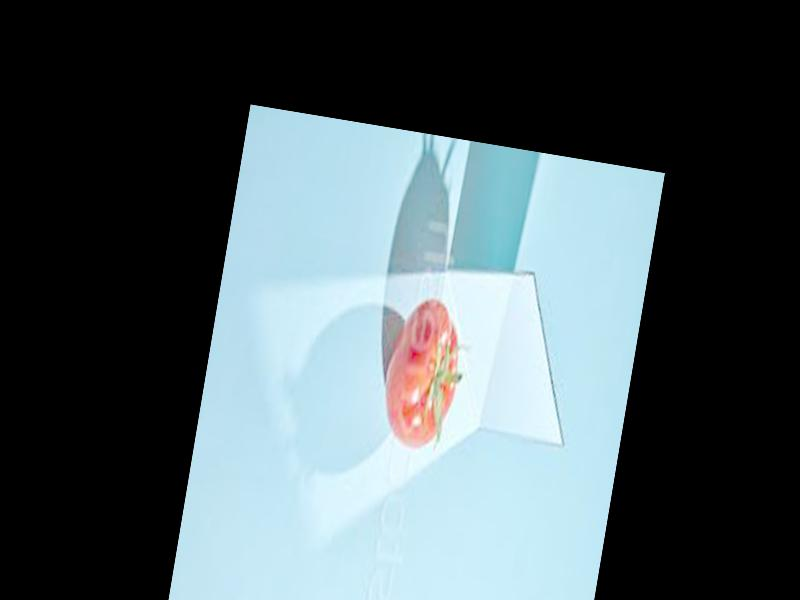Tomato: (375, 293, 469, 452)
